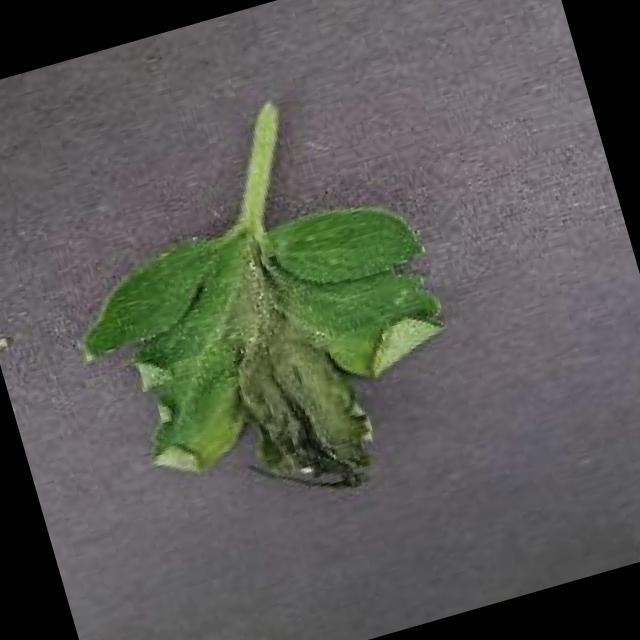Tomato late blight leaf: (60, 166, 492, 554)
